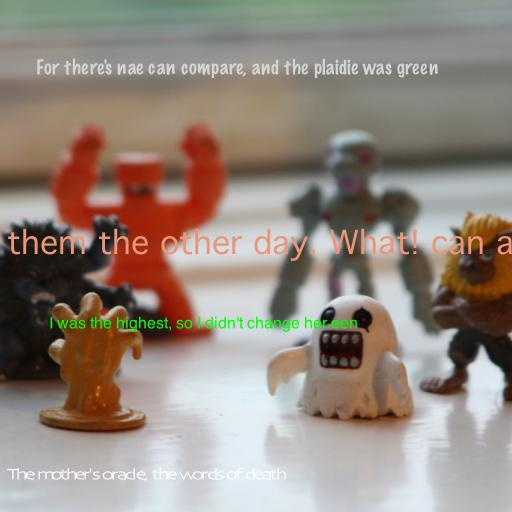Big Caslon: (48, 316, 358, 332)
Geneva: (0, 228, 512, 261)
Marker Felt: (36, 58, 438, 79)
Skia: (7, 467, 285, 482)
